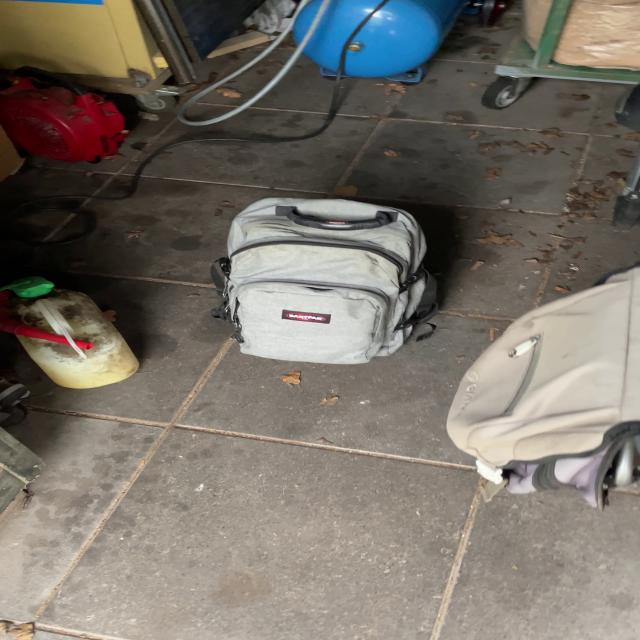backpack: (201, 191, 451, 369)
